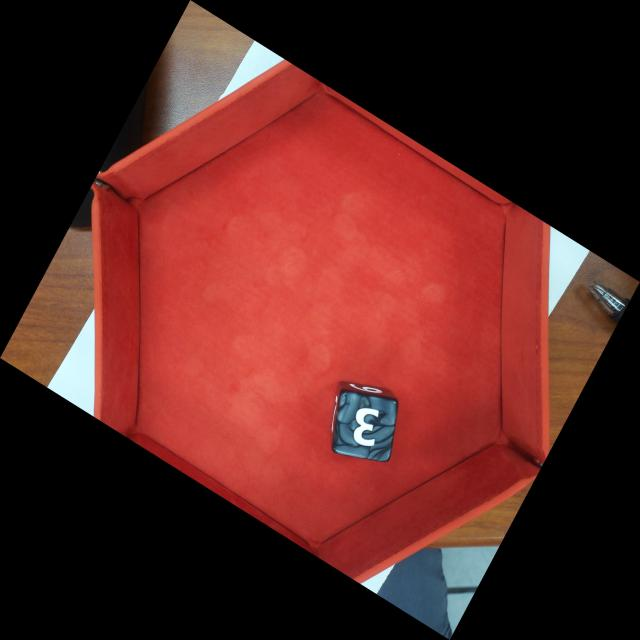dice: (330, 388, 399, 464)
